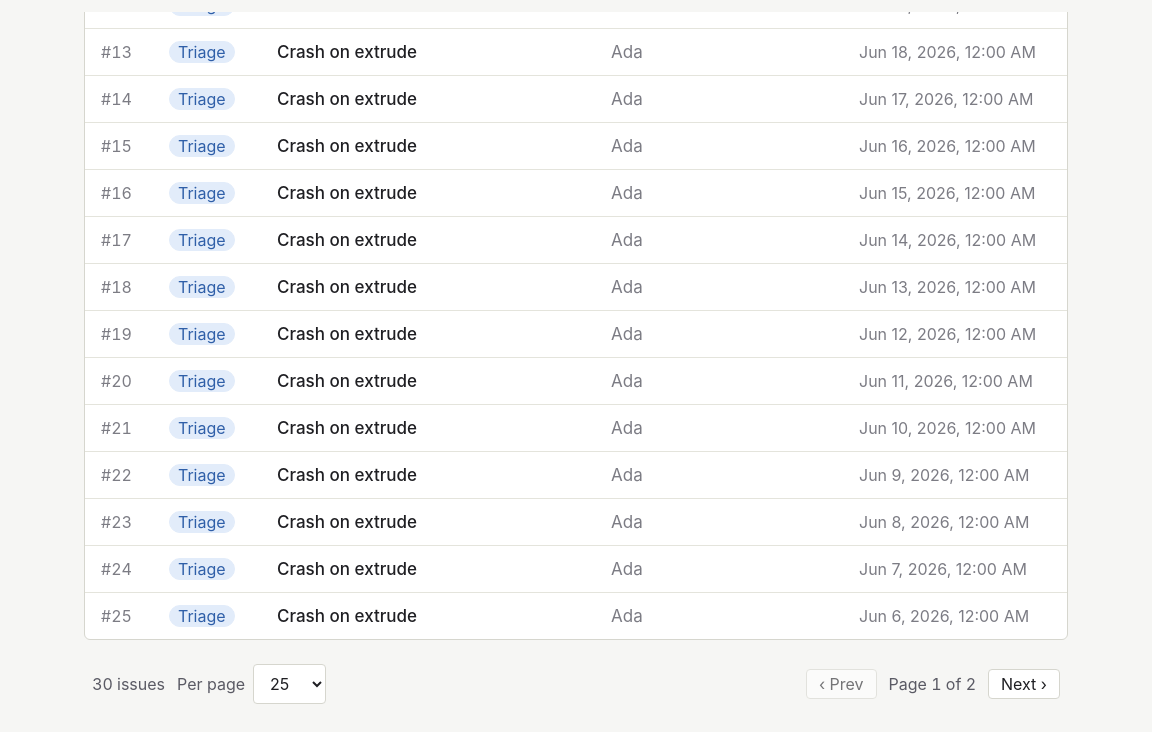
Test: TicketsView — list › paginates with an adjustable, persisted page size
The image size is (1152, 732).
Check: the text "30 issues" is shown, box x1=92 y1=672 x2=165 y2=696
Check: the text "Page 1 of 2" is shown, box x1=888 y1=672 x2=976 y2=696
Click the button "Next ›" at (1024, 684), box x1=988 y1=669 x2=1060 y2=699
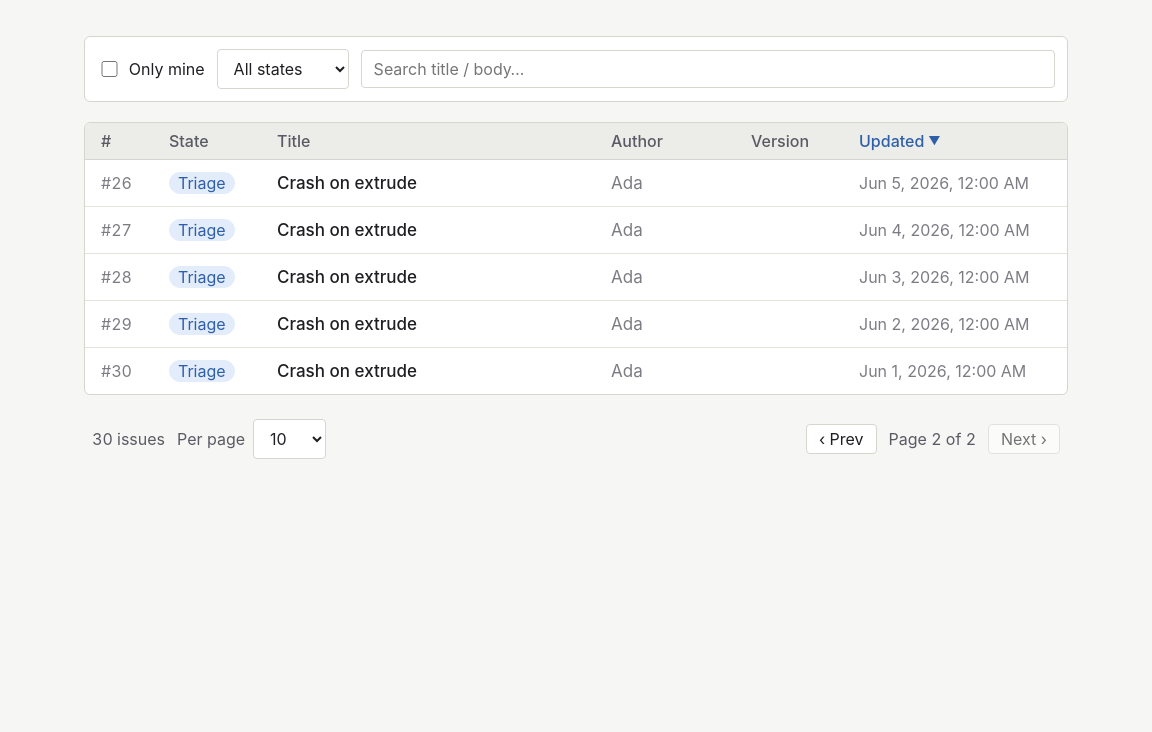
Check: the text "Page 2 of 2" is shown, box x1=888 y1=427 x2=976 y2=451
Select "10" in the dropdown labelled "Per page" at (290, 439), box x1=253 y1=419 x2=326 y2=459
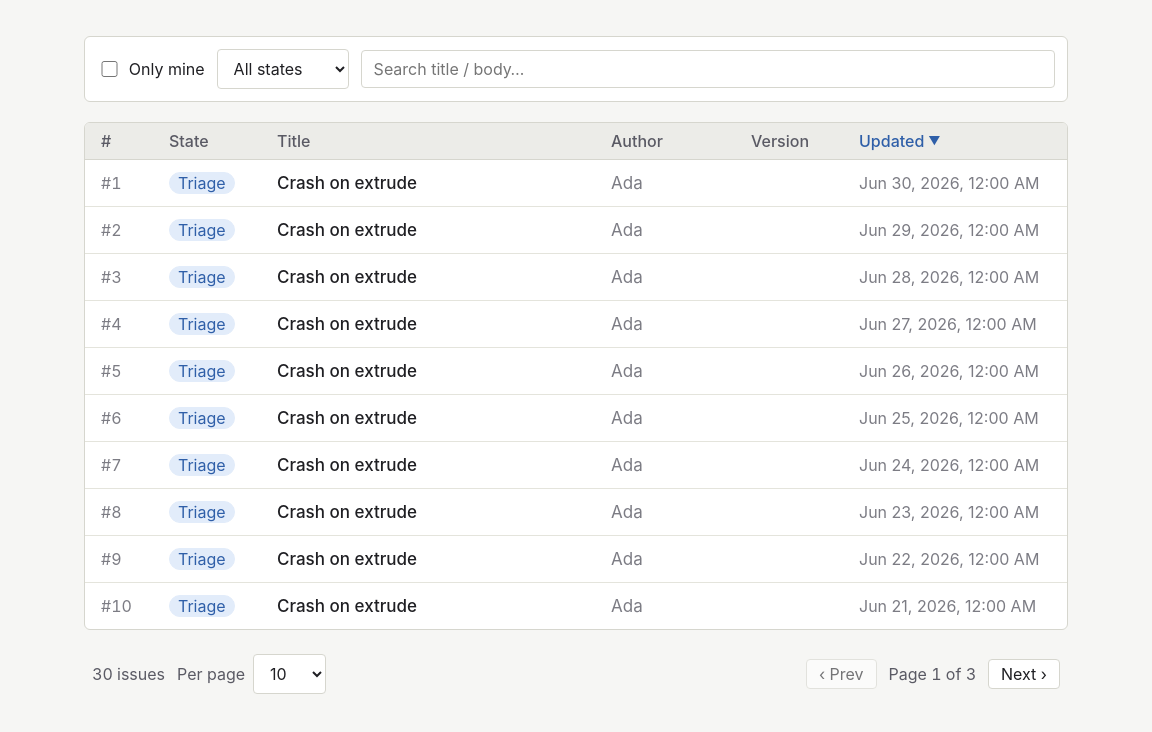
Check: the text "Page 1 of 3" is shown, box x1=888 y1=662 x2=976 y2=686
